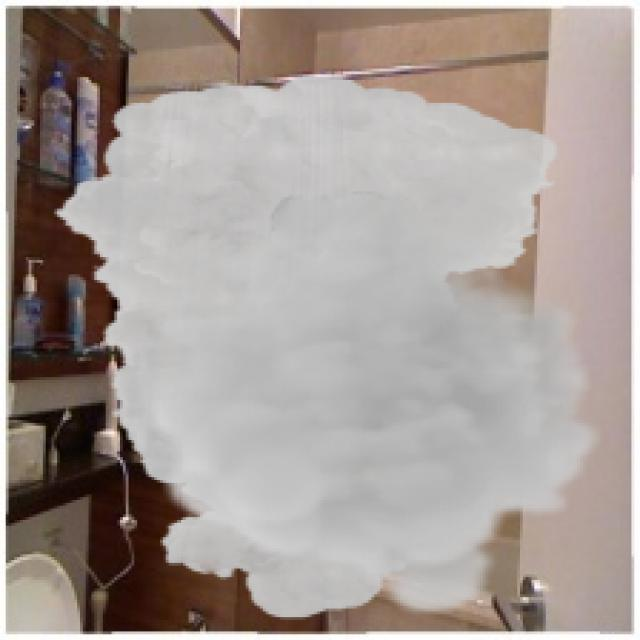Smoke: (51, 74, 603, 620)
